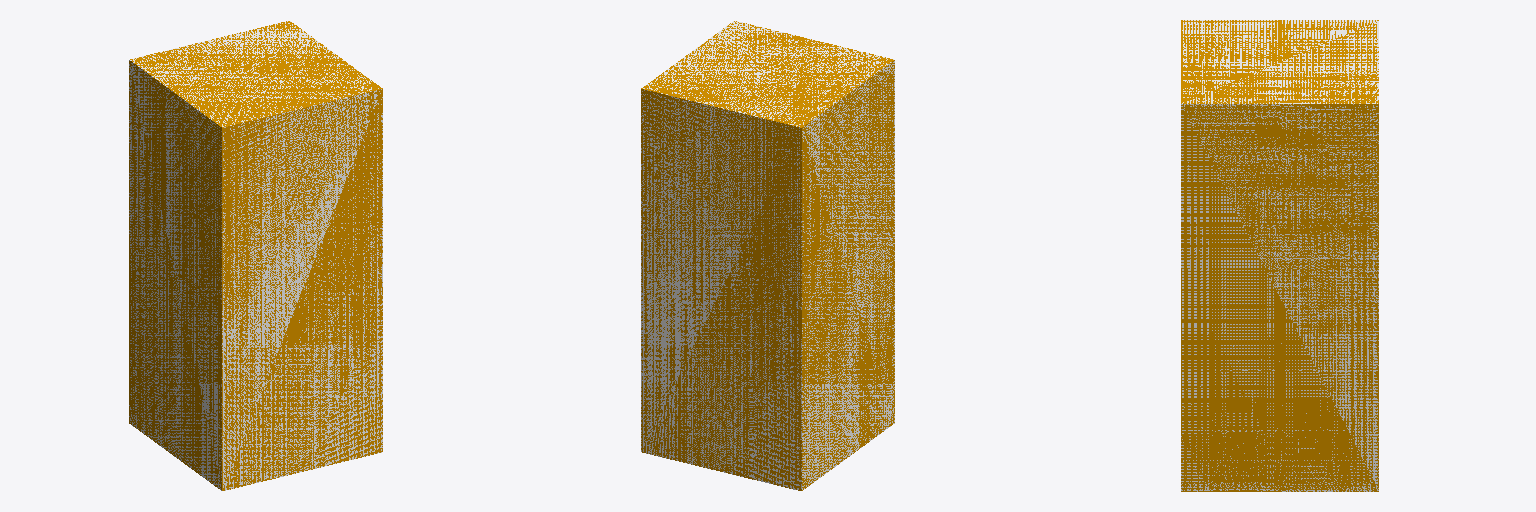
URDF robot description (my_object):
<?xml version="1.0" ?> 
<robot name="my_object" static="true">
  <link name="base_link">
  <inertial>
    <mass value="0.013" />
    <origin xyz="0 0 0.0" />
    <inertia ixx="1.0" ixy="0.0" ixz="0.0" iyy="1.0" iyz="0.0" izz="1.0"/>
  </inertial>
  <visual>
   <origin xyz="0 0 0.0" rpy="0 0 0" />
   <geometry>
     <mesh filename="package://cob_gazebo_objects/Media/models/medication_prospan.dae"/>
   </geometry>
  </visual>
  <collision>
   <origin xyz="0 0 0" rpy="0 0 0" />
   <geometry>
     <box size="0.12 0.056 0.12" />
   </geometry>
  </collision>     
  </link>

<gazebo>
	<static>true</static>
</gazebo>
</robot>

--- Render facts (derived) ---
3 views of the same robot in one strip: view 1: azimuth 30°, elevation 25°; view 2: azimuth 150°, elevation 25°; view 3: azimuth 270°, elevation 25° (orthographic).
Model my_object with 1 links and 0 joints (none), rooted at base_link, posed every joint at zero.
Visible links, largest first — view 1: base_link; view 2: base_link; view 3: base_link.
Boxes of the visible links, <box> form: base_link: <box>129,21,382,490</box>; base_link: <box>641,21,894,490</box>; base_link: <box>1181,20,1378,491</box>.
Bounding box of the posed robot: 0.0553 × 0.0555 × 0.1196 m (x, y, z).
1 mesh visuals loaded from 1 distinct referenced files (1 Collada DAE).